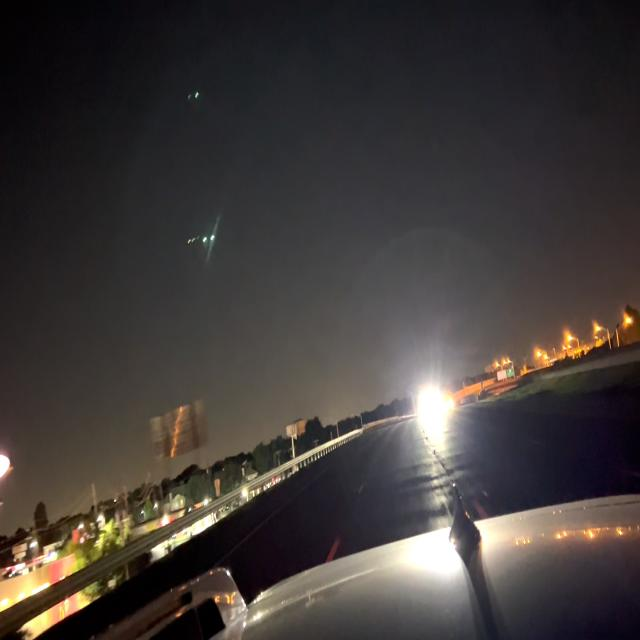back-of-sign: (148, 402, 210, 461)
